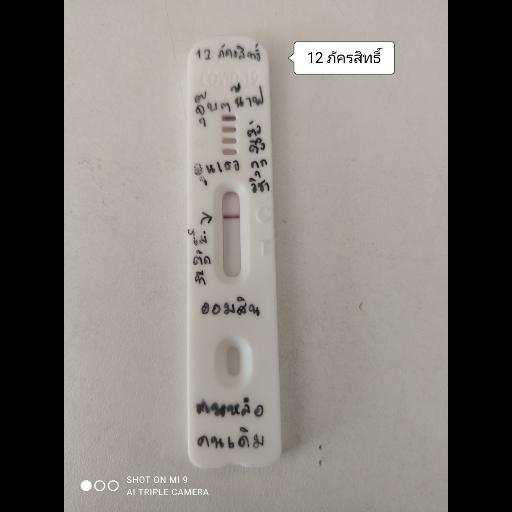Neg: (188, 37, 278, 463)
